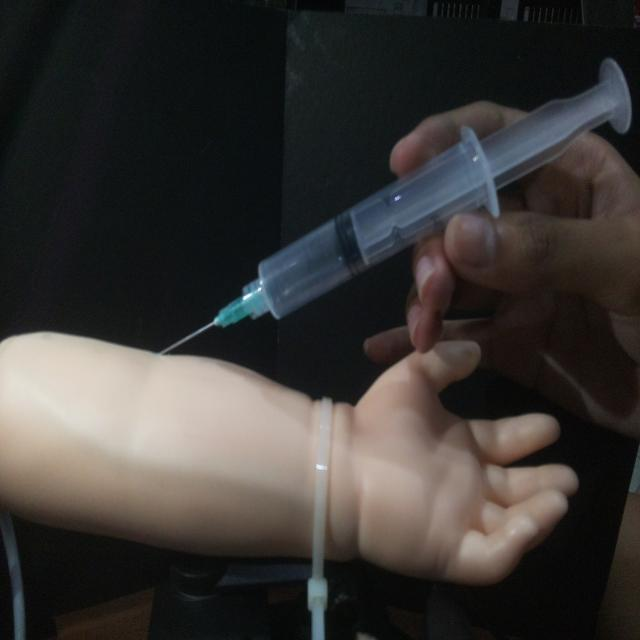25deg: (153, 54, 633, 358)
